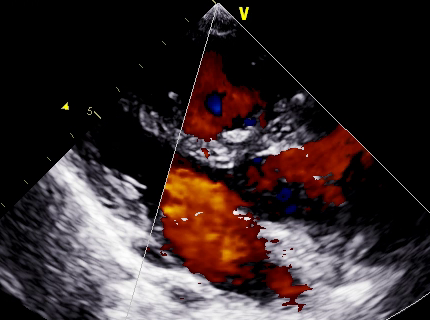AR: (188, 160, 306, 229)
